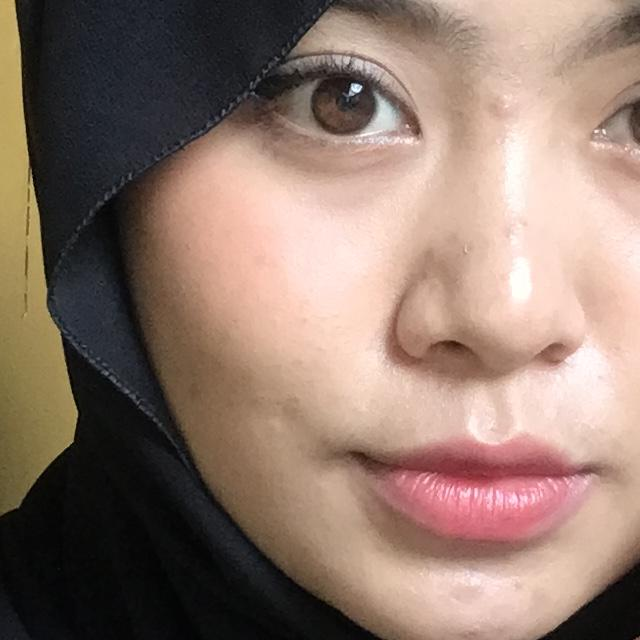telpon: (460, 86, 640, 640)
